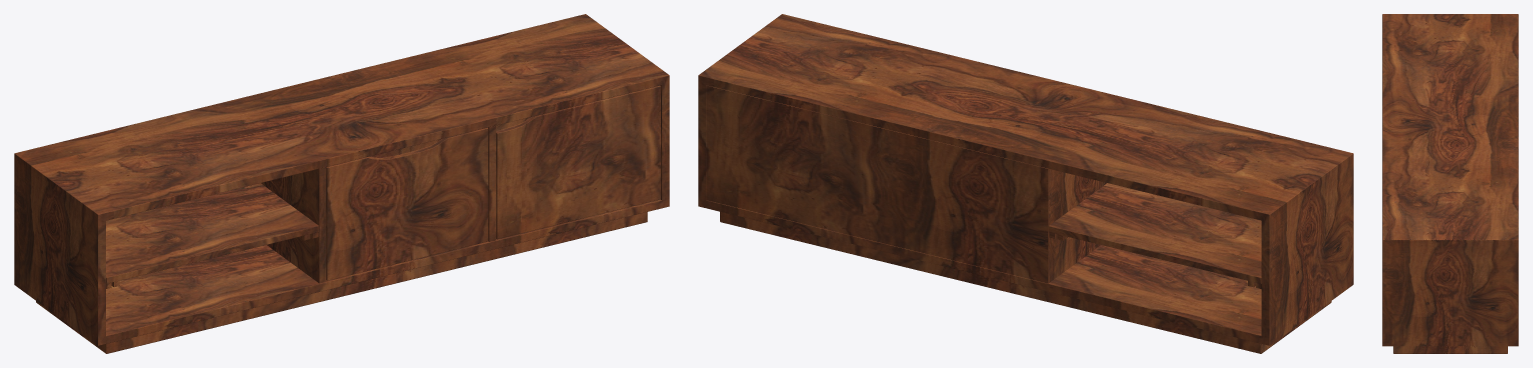
Rendered from TV-unit-1-1.FBX.
3 renders of one model, left to right at view 1: azimuth 30°, elevation 25°; view 2: azimuth 150°, elevation 25°; view 3: azimuth 270°, elevation 25°, orthographic. The views are drawn at different scales.
Visible parts, largest first — view 1: FNSGAV11TK30054; view 2: FNSGAV11TK30054; view 3: FNSGAV11TK30054.
Part boxes in pixels (<box>): FNSGAV11TK30054: <box>14,14,669,353</box>; FNSGAV11TK30054: <box>698,14,1353,353</box>; FNSGAV11TK30054: <box>1382,14,1518,353</box>.
Bounding box in the file's own units: 100 × 24.8 × 25.45.
